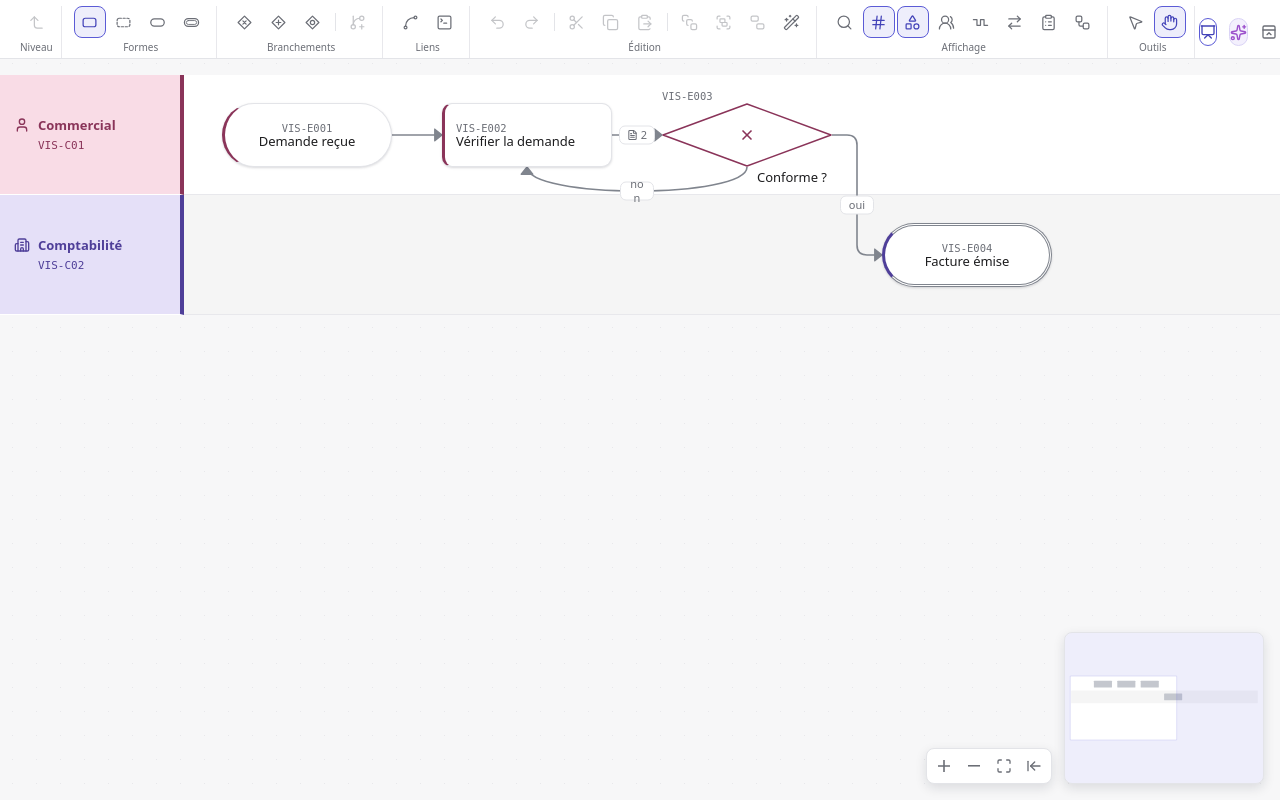
Test: the stage of a presentation (ADR 097) › opens by the button « Présenter » of the ribbon, named with its two shortcuts
Click the button with test id "ribbon-present" at (1208,32), box top-left (1199, 18), bottom-right (1217, 46)
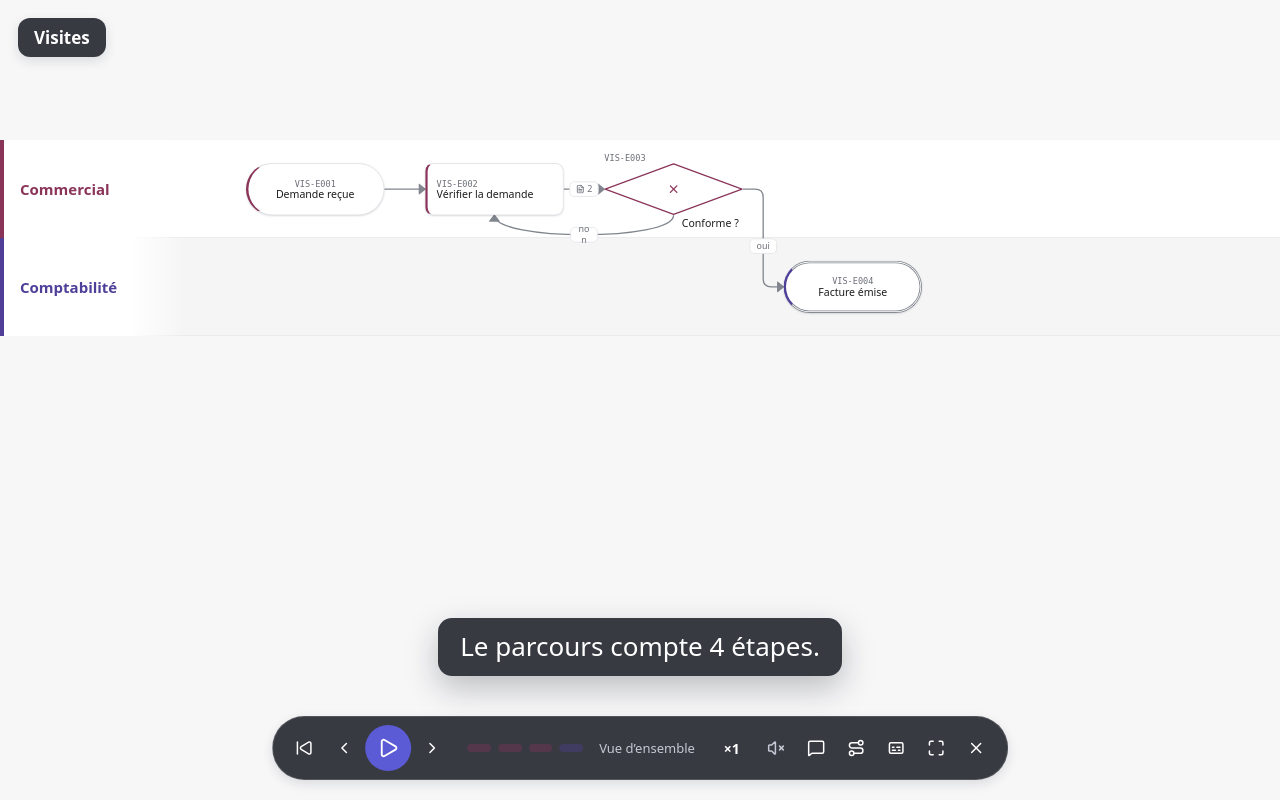
Check: the dialog with test id "presenter" is shown
